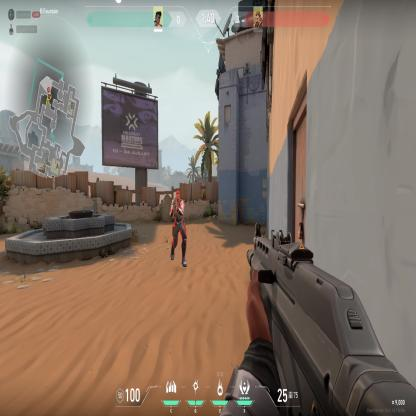enemy: (170, 189, 187, 268)
